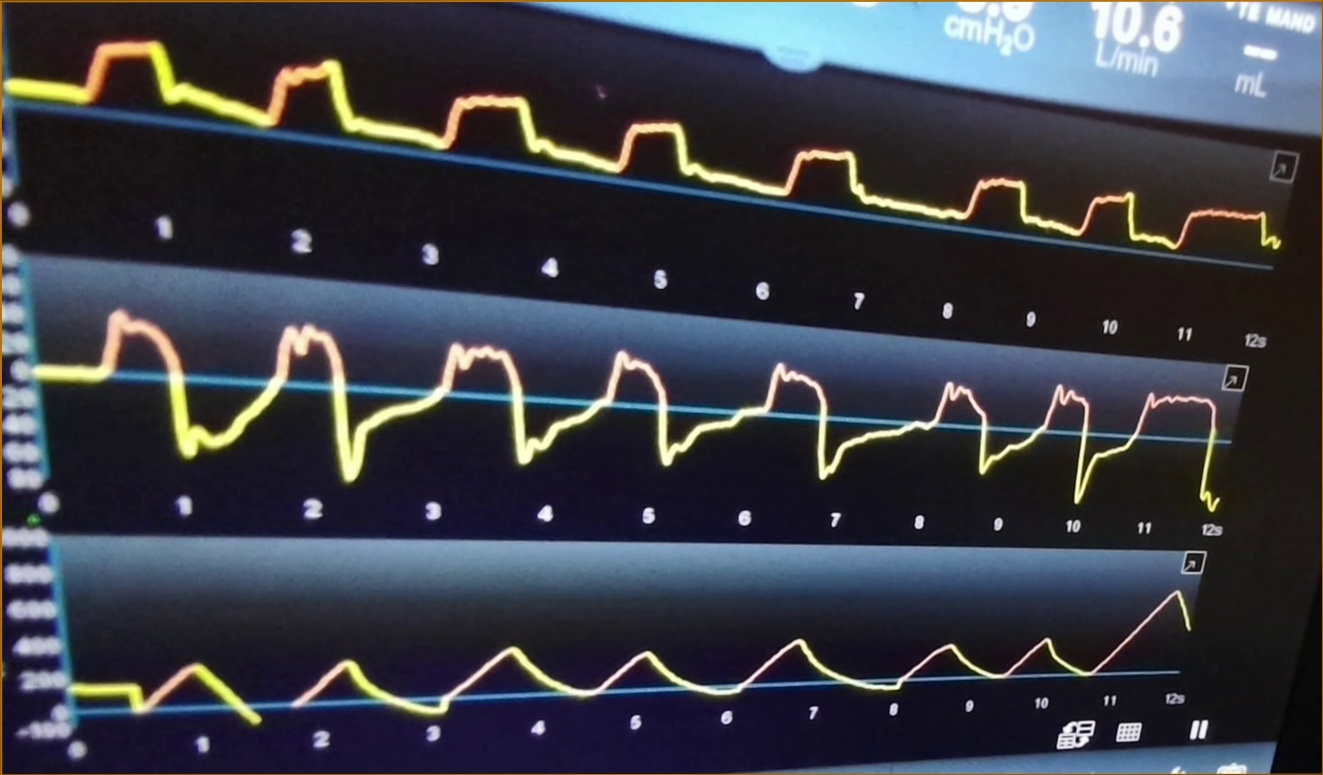Accumulation Flow: (36, 317, 1220, 502)
Volume: (64, 576, 1204, 719)
